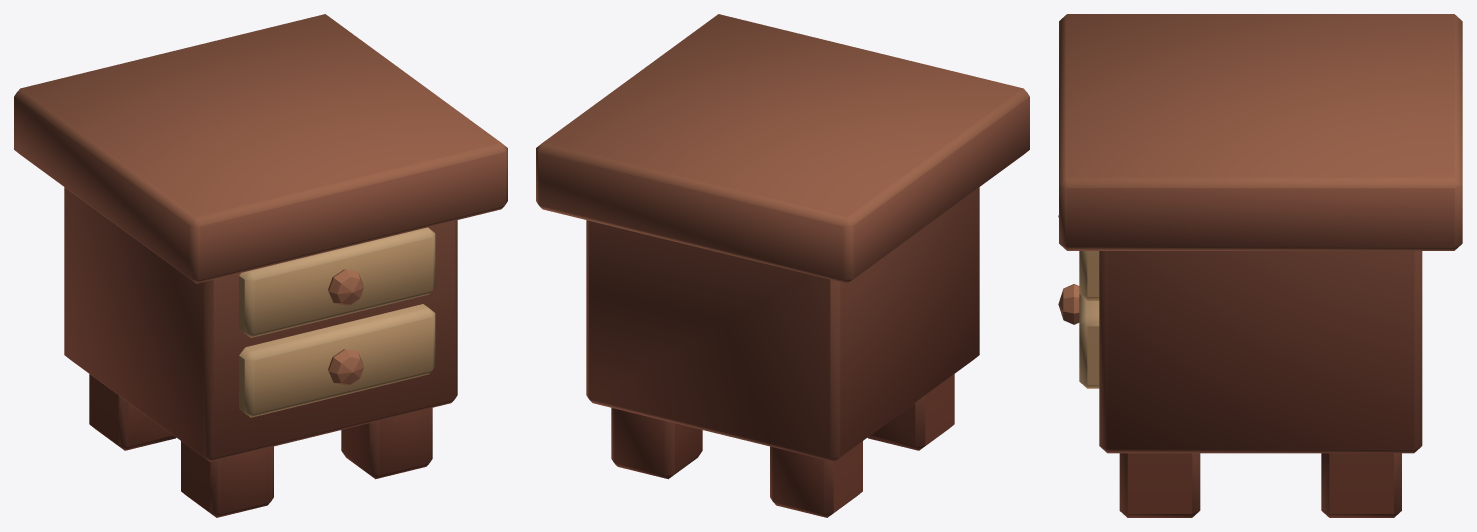
File: K_cabinet_small.glb
3 views of the same model, side by side, from view 1: azimuth 30°, elevation 25°; view 2: azimuth 150°, elevation 25°; view 3: azimuth 270°, elevation 25° (orthographic). The views are drawn at different scales.
Visible parts, largest first — view 1: cabinet_small; view 2: cabinet_small; view 3: cabinet_small.
Boxes of the visible parts, x1,y1,x2,y2 form: cabinet_small: [14, 14, 507, 517]; cabinet_small: [536, 14, 1029, 517]; cabinet_small: [1058, 14, 1462, 517].
Bounding box in the file's own units: 1 × 1 × 1.
